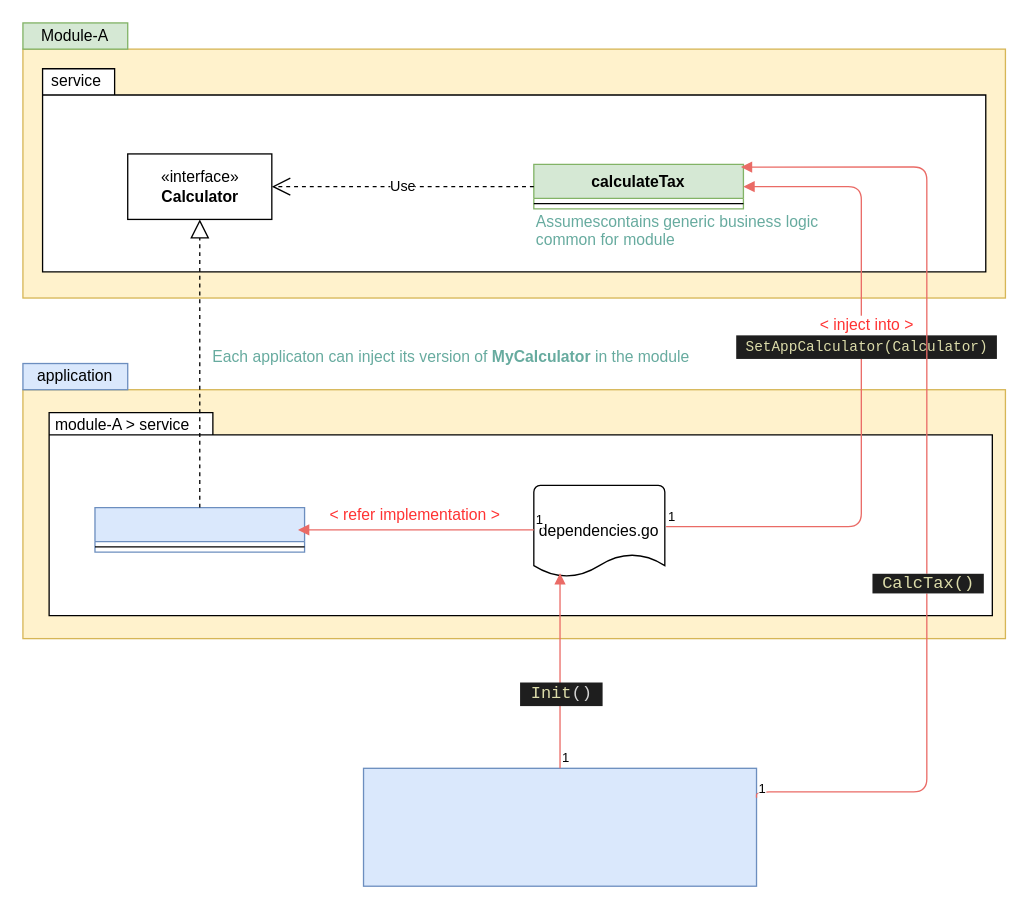
The diagram is 1028 pixels wide and 909 high, and some of its shapes have lost their labels. Each missing label, with the centre of its shape:
"AppCalculator" belongs at point 199,529.
"main()" belongs at point 559,826.
